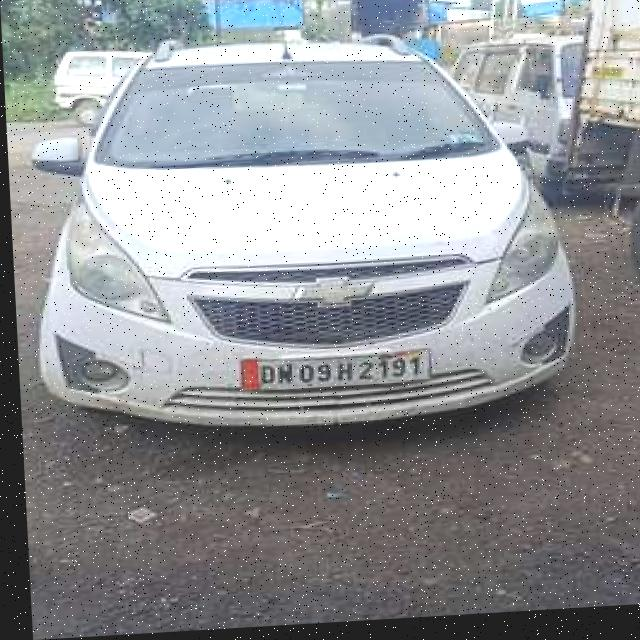plate: (234, 351, 427, 398)
